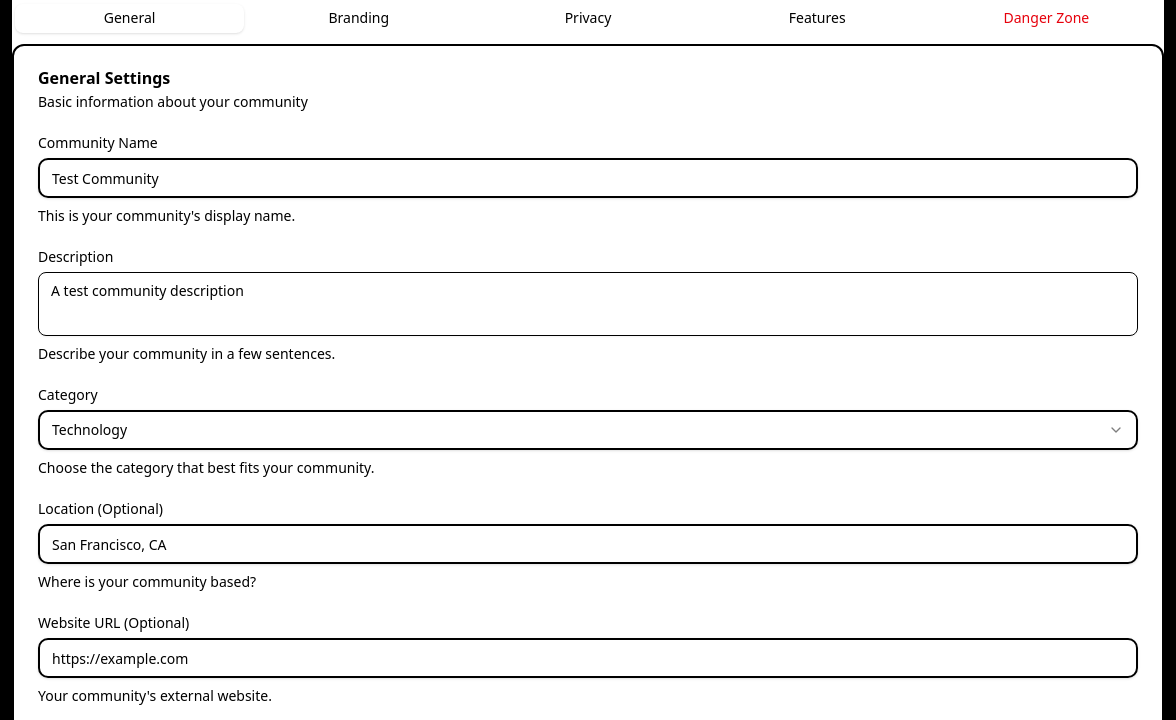
CommunitySettingsForm › validates form inputs
Replace the text in the field showing "Test Community" with "A" at [588, 178], box 38,158 -> 1138,198
(page scrolled)
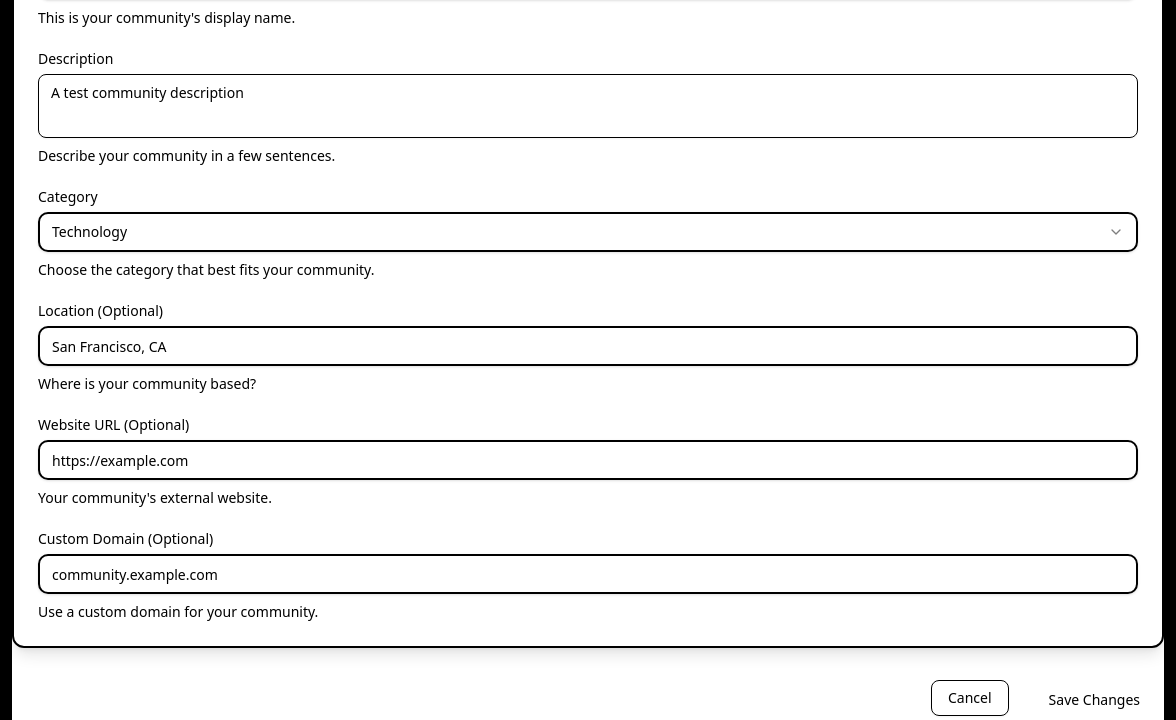
Click the button "Save Changes" at [1094, 700], box 1025,680 -> 1164,719
(page scrolled)
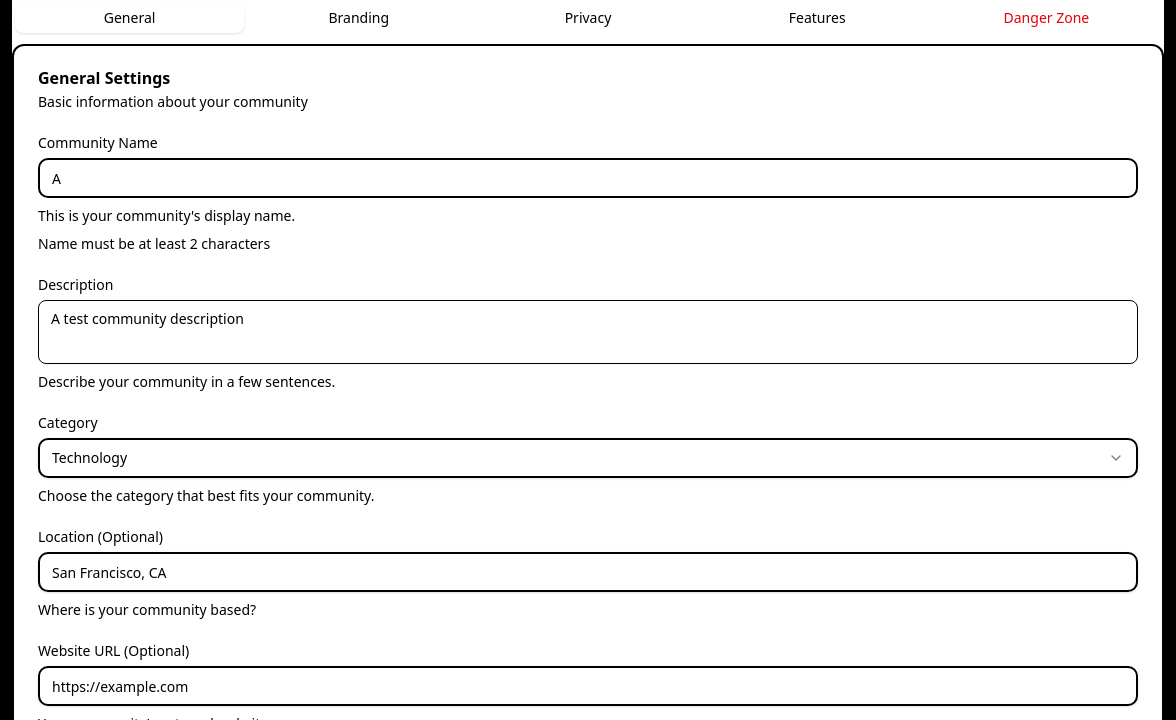
Check: the text "Name must be at least 2 characters" is shown, box 38,234 -> 270,253
